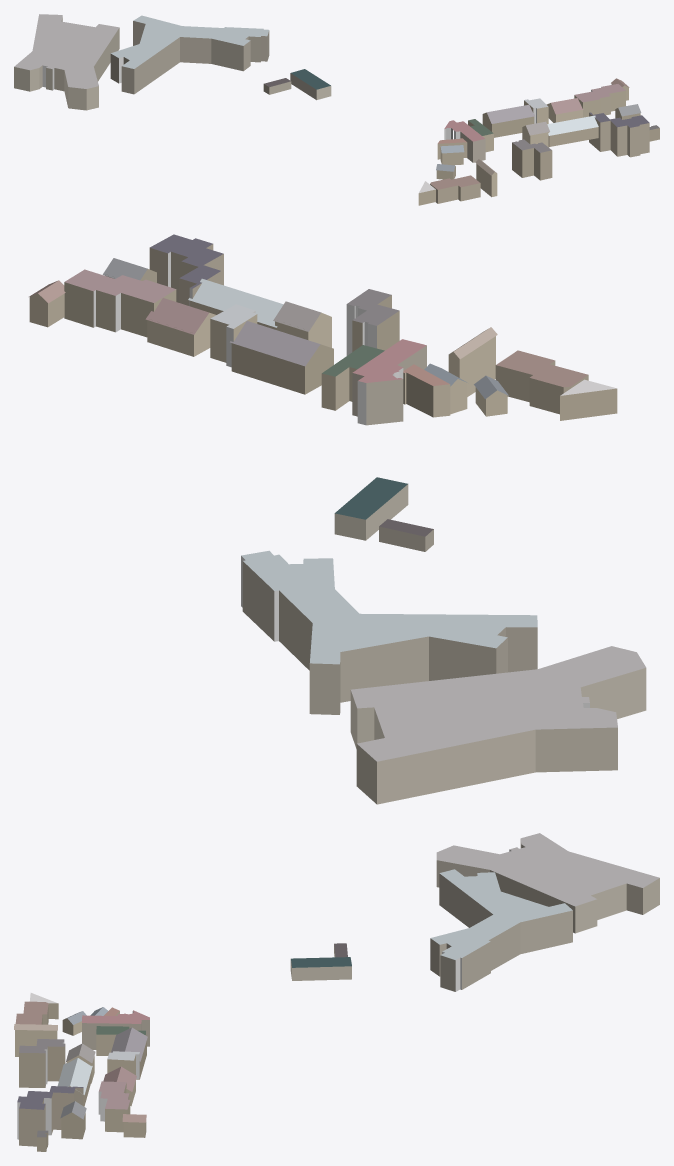
3 views of the same model, one above another, from view 1: azimuth 30°, elevation 25°; view 2: azimuth 150°, elevation 25°; view 3: azimuth 270°, elevation 25° (orthographic). The views are drawn at different scales.
Parts seen in each view (by area): view 1: tuile; view 2: tuile; view 3: tuile.
Boxes of the visible parts, x1,y1,x2,y2 form: tuile: [14, 14, 659, 205]; tuile: [29, 234, 646, 804]; tuile: [14, 833, 659, 1151].
Bounding box in the file's own units: 255 × 27.49 × 251.
